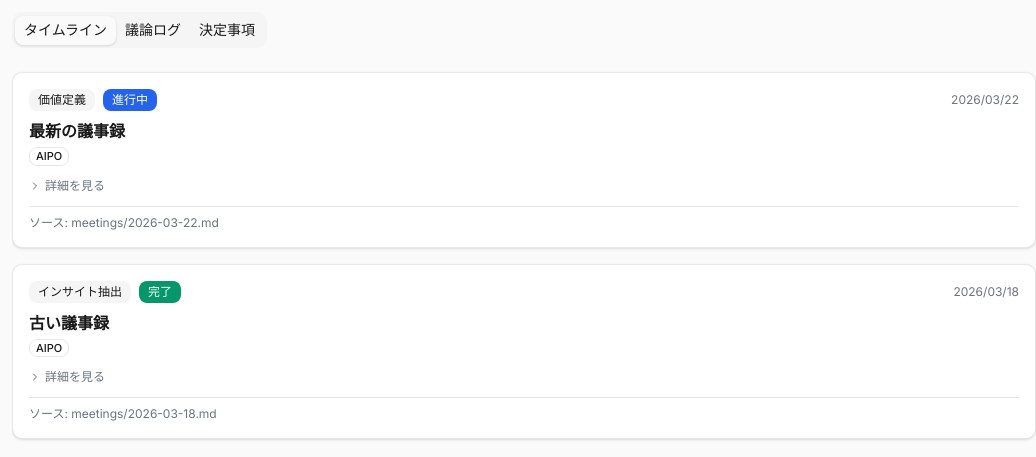
Test case: TimelineTab › shows empty state for decisions when no summaries exist
Step 1. Click the tab "決定事項" → {"x": 227, "y": 30}, box [190,16,264,44]
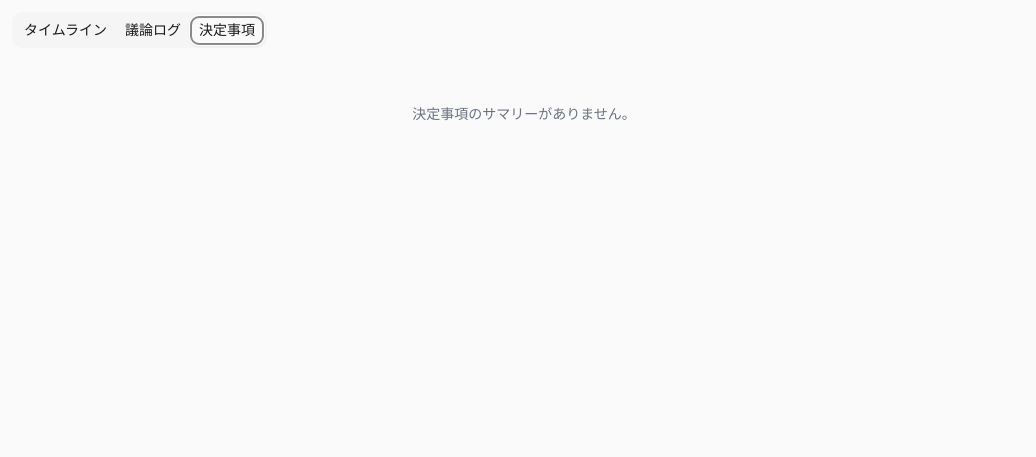
Result: the text "決定事項のサマリーがありません。" is shown at [412,105,636,122]
